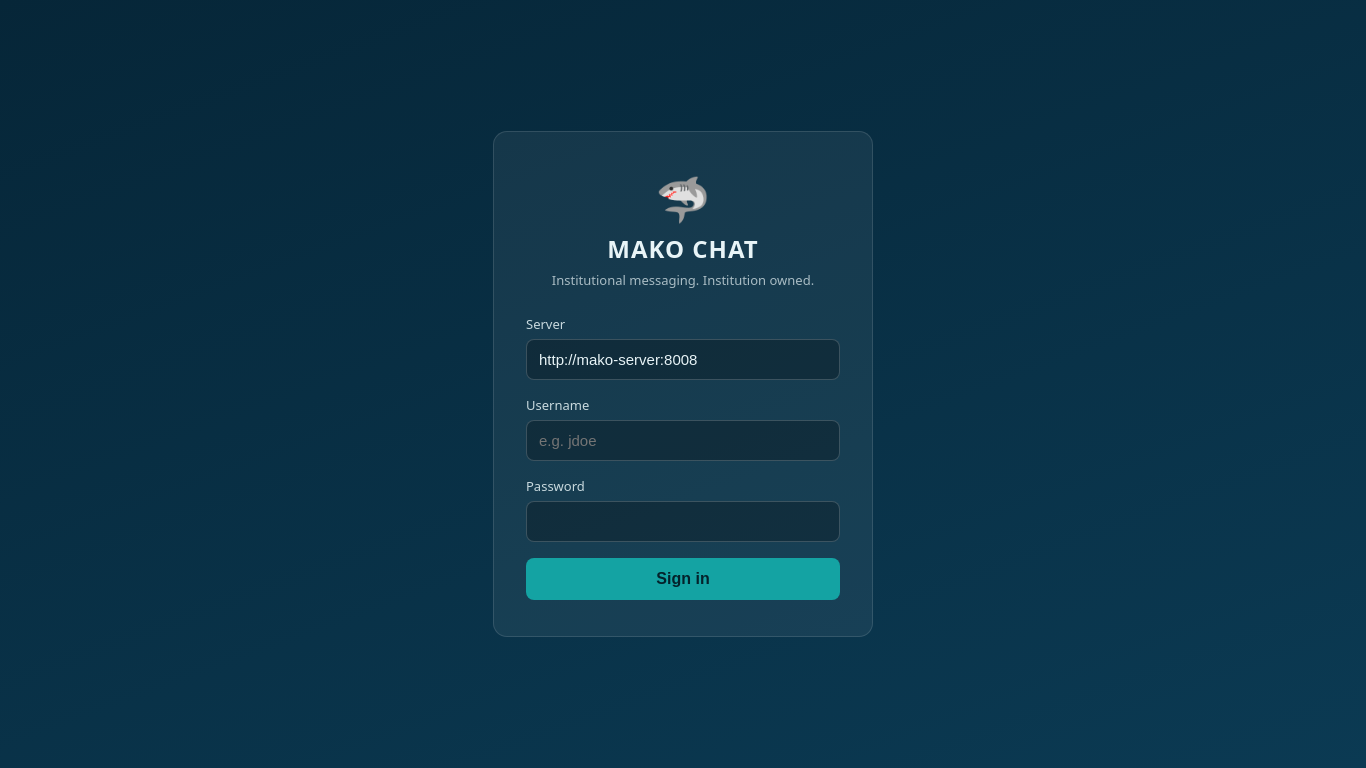
Scenario: LoginScreen › refuses an empty submit with a visible message and no login call
Click the button "Sign in".
click(683, 579)  # box [526, 558, 840, 600]
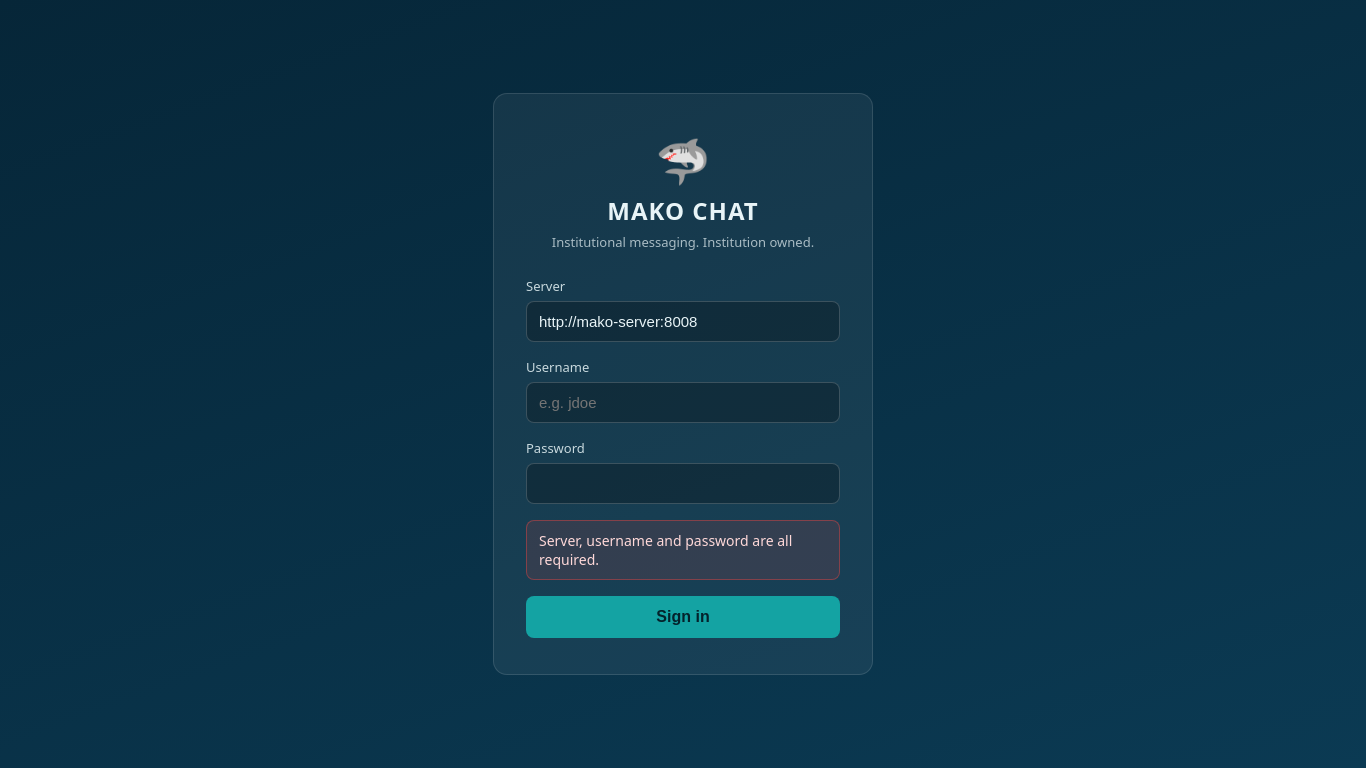
Expected: the message "Server, username and password are all required." is shown, [526, 520, 840, 580]
